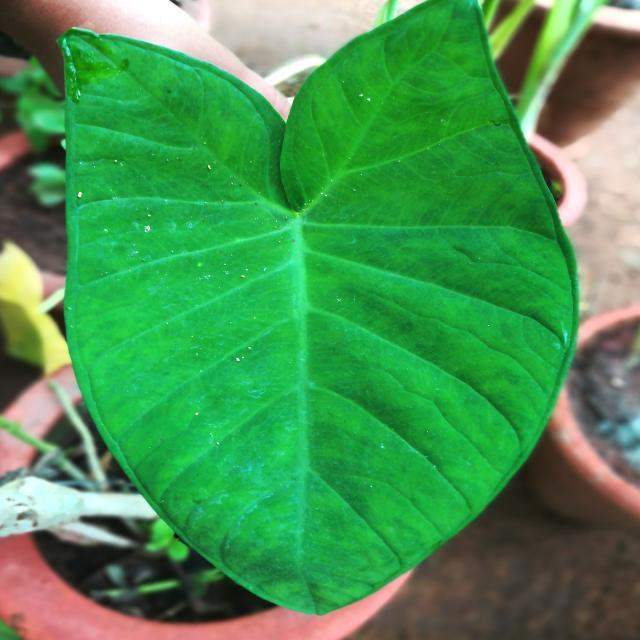leaf: (57, 0, 581, 616)
